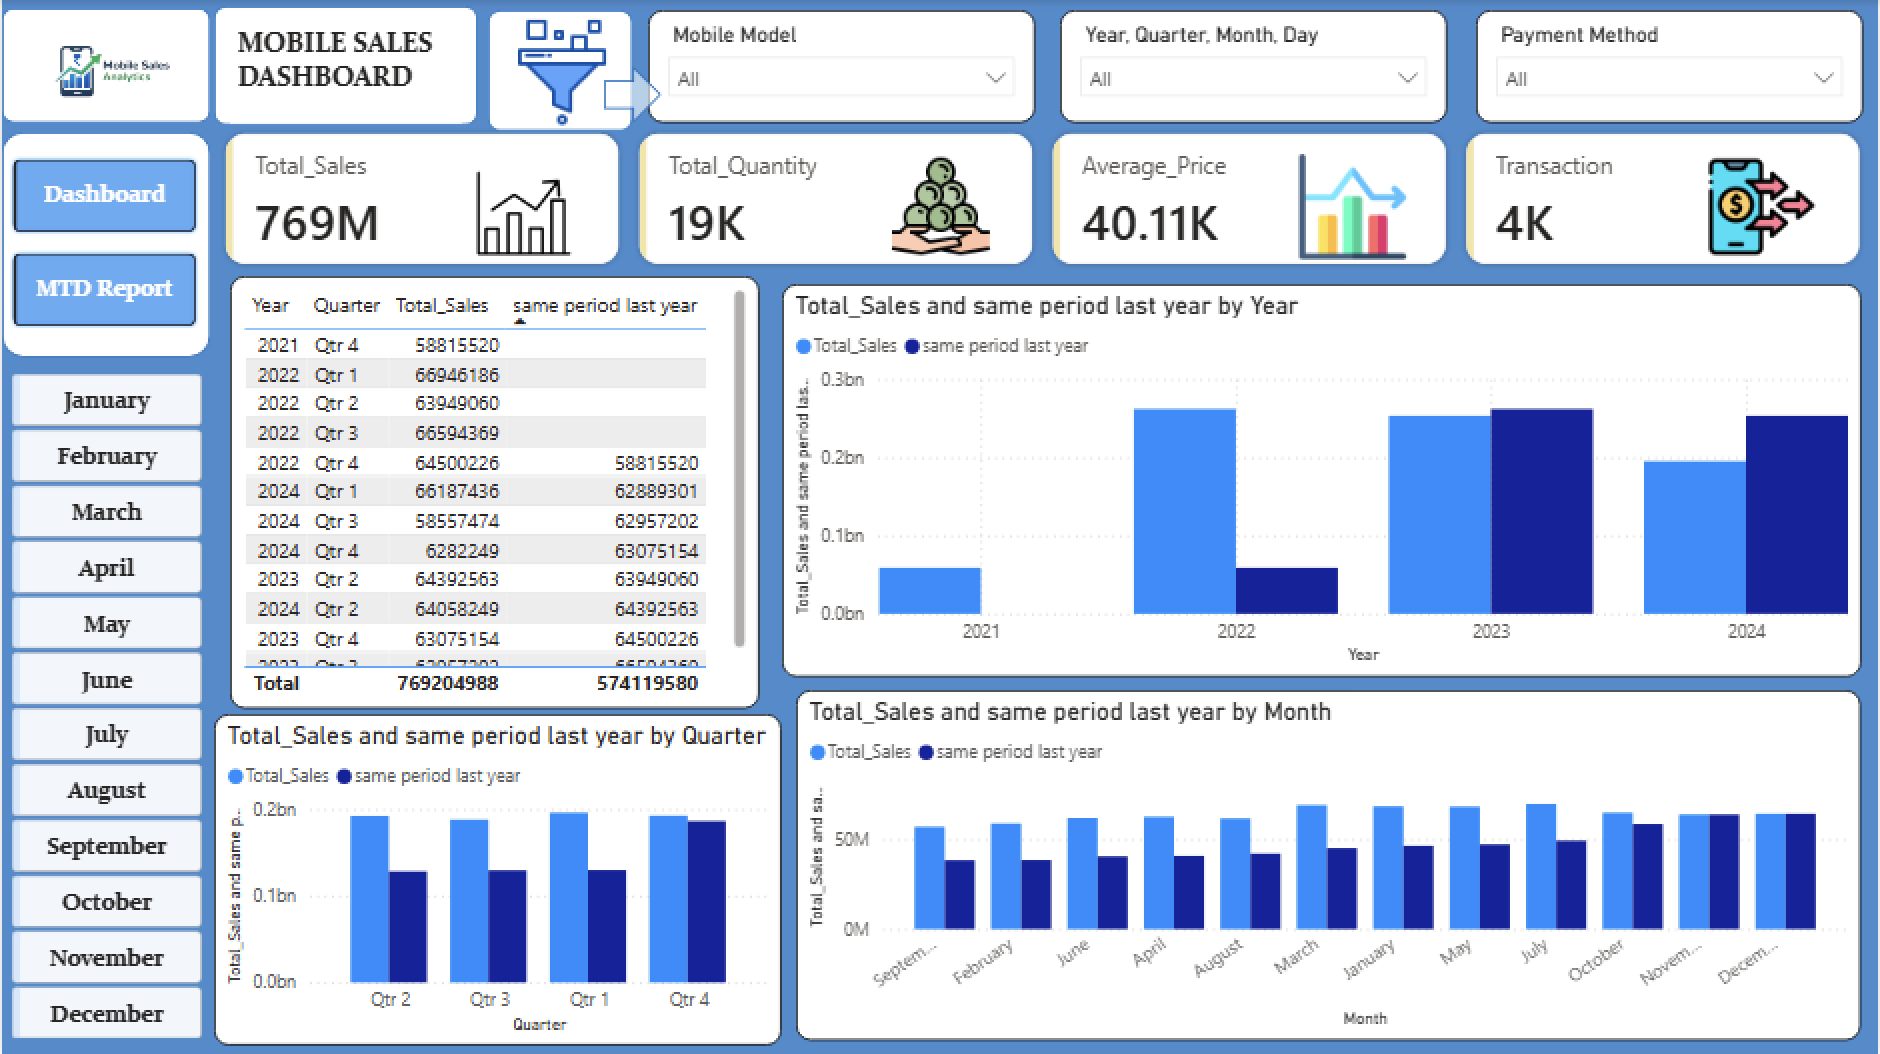

This screenshot's page, from the dashboard's own definition file:
{"tool":"powerbi","page":{"name":"Same period Last year","canvas":[1280,720],"ordinal":1},"visuals":[{"type":"shape","box":[0,5.8,142,78.3],"z":0},{"type":"image","box":[0,5.8,155.1,89.9],"z":1000},{"type":"shape","box":[0,89.9,142,153.6],"z":2000},{"type":"cardVisual","fields":{"Data":["Sales_Data.Total_Sales","Sales_Data.Total_Quantity","Sales_Data.Average_Price","Sales_Data.Transaction"]},"box":[140.6,79.7,1139.1,113],"z":3000},{"type":"image","box":[1146.4,104.3,105.8,72.5],"z":4000},{"type":"image","box":[875.4,104.3,91.3,72.5],"z":5000},{"type":"image","box":[594.2,104.3,91.3,71],"z":6000},{"type":"image","box":[301.4,104.3,108.7,81.2],"z":7000},{"type":"slicer","fields":{"Values":["Sales_Data.Mobile Model"]},"box":[440.6,7.2,263.8,76.8],"z":8000},{"type":"slicer","fields":{"Values":["Custom_Calendar.Date.Variation.Date Hierarchy.Year","Custom_Calendar.Date.Variation.Date Hierarchy.Quarter","Custom_Calendar.Date.Variation.Date Hierarchy.Month","Custom_Calendar.Date.Variation.Date Hierarchy.Day"]},"box":[721.7,7.2,263.8,76.8],"z":9000},{"type":"slicer","fields":{"Values":["Sales_Data.Payment Method"]},"box":[1004.3,7.2,263.8,76.8],"z":10000},{"type":"shape","box":[331.9,7.2,98.6,82.6],"z":11000},{"type":"image","box":[340.6,11.6,81.2,73.9],"z":12000},{"type":"shape","box":[410.1,44.9,39.1,39.1],"z":13000},{"type":"shape","box":[144.9,4.3,179.7,81.2],"z":14000},{"type":"textbox","box":[155.1,11.6,158,72.5],"z":15000},{"type":"advancedSlicerVisual","fields":{"Values":["Custom_Calendar.Date.Variation.Date Hierarchy.Month"]},"box":[1.4,249,140.6,471],"z":17000},{"type":"tableEx","fields":{"Values":["Custom_Calendar.Date.Variation.Date Hierarchy.Year","Custom_Calendar.Date.Variation.Date Hierarchy.Quarter","Sales_Data.Total_Sales","Sales_Data.same period last year"]},"box":[155.5,188.6,361.4,295.2],"z":17001},{"type":"lineClusteredColumnComboChart","fields":{"Category":["Custom_Calendar.Date.Variation.Date Hierarchy.Year","Custom_Calendar.Date.Variation.Date Hierarchy.Quarter"],"Y":["Sales_Data.Total_Sales","Sales_Data.same period last year"]},"box":[531.4,193,735.8,267.8],"z":17002},{"type":"lineClusteredColumnComboChart","fields":{"Category":["Custom_Calendar.Date.Variation.Date Hierarchy.Month"],"Y":["Sales_Data.Total_Sales","Sales_Data.same period last year"]},"box":[541.4,470.9,725.8,239],"z":17003},{"type":"lineClusteredColumnComboChart","fields":{"Category":["Custom_Calendar.Date.Variation.Date Hierarchy.Quarter"],"Y":["Sales_Data.Total_Sales","Sales_Data.same period last year"]},"box":[144,486.7,387.4,226.1],"z":17004},{"type":"pageNavigator","box":[5.8,106.6,129.6,119.5],"z":17005}]}

Visuals, with their boxes in screenshot pixels (x1, y1, x2, y2), scaled from the page's 1280x720 canvas onto the 1880x1054 screenshot:
shape: bbox=[0, 8, 209, 123]
image: bbox=[0, 8, 228, 140]
shape: bbox=[0, 132, 209, 356]
cardVisual - Sales_Data.Total_Sales x Sales_Data.Total_Quantity: bbox=[207, 117, 1879, 282]
image: bbox=[1684, 153, 1839, 259]
image: bbox=[1286, 153, 1420, 259]
image: bbox=[873, 153, 1007, 257]
image: bbox=[443, 153, 602, 272]
slicer - Sales_Data.Mobile Model: bbox=[647, 11, 1035, 123]
slicer - Custom_Calendar.Date.Variation.Date Hierarchy.Year x Custom_Calendar.Date.Variation.Date Hierarchy.Quarter: bbox=[1060, 11, 1447, 123]
slicer - Sales_Data.Payment Method: bbox=[1475, 11, 1863, 123]
shape: bbox=[487, 11, 632, 131]
image: bbox=[500, 17, 620, 125]
shape: bbox=[602, 66, 660, 123]
shape: bbox=[213, 6, 477, 125]
textbox: bbox=[228, 17, 460, 123]
advancedSlicerVisual - Custom_Calendar.Date.Variation.Date Hierarchy.Month: bbox=[2, 365, 209, 1053]
tableEx - Custom_Calendar.Date.Variation.Date Hierarchy.Year x Custom_Calendar.Date.Variation.Date Hierarchy.Quarter: bbox=[228, 276, 759, 708]
lineClusteredColumnComboChart - Custom_Calendar.Date.Variation.Date Hierarchy.Year x Custom_Calendar.Date.Variation.Date Hierarchy.Quarter: bbox=[780, 283, 1861, 675]
lineClusteredColumnComboChart - Custom_Calendar.Date.Variation.Date Hierarchy.Month x Sales_Data.Total_Sales: bbox=[795, 689, 1861, 1039]
lineClusteredColumnComboChart - Custom_Calendar.Date.Variation.Date Hierarchy.Quarter x Sales_Data.Total_Sales: bbox=[212, 712, 780, 1043]
pageNavigator: bbox=[9, 156, 199, 331]
